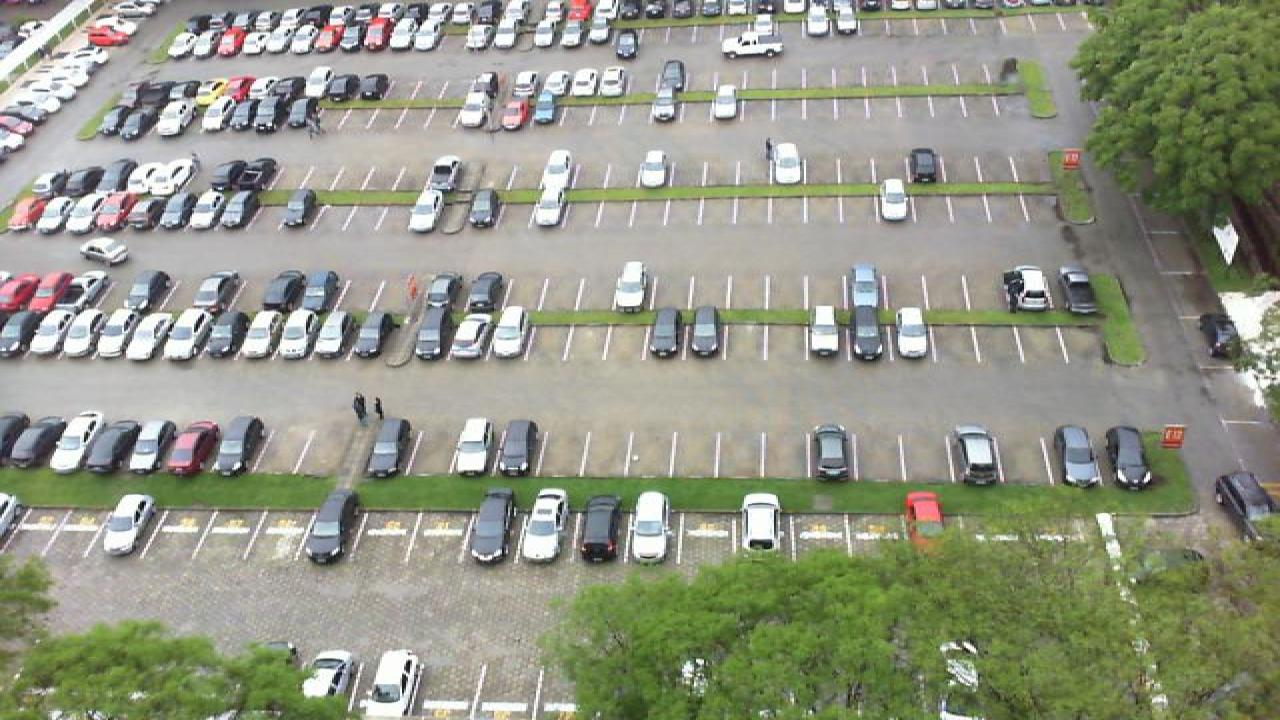Car: (1214, 468, 1280, 541), (368, 647, 426, 720), (464, 487, 518, 565), (516, 487, 568, 566), (306, 489, 358, 565), (300, 649, 352, 720), (574, 494, 624, 565), (628, 489, 674, 564), (46, 409, 102, 470), (1104, 424, 1156, 489), (98, 492, 152, 554), (736, 492, 786, 558), (214, 415, 266, 476), (364, 417, 412, 480), (166, 420, 220, 476), (902, 490, 950, 552), (82, 419, 138, 472), (954, 424, 1000, 486), (122, 420, 176, 472), (8, 414, 60, 468), (494, 418, 540, 478), (808, 424, 854, 483), (450, 417, 494, 477), (1058, 425, 1100, 487), (1002, 264, 1054, 313), (446, 308, 494, 361), (274, 308, 322, 361), (1056, 265, 1106, 315), (348, 308, 396, 360), (80, 307, 128, 359), (486, 307, 532, 361), (312, 307, 358, 361), (4, 308, 54, 357), (232, 309, 280, 360), (44, 307, 92, 358), (194, 307, 240, 360), (118, 307, 164, 360), (408, 304, 450, 361), (156, 308, 202, 360), (846, 305, 888, 361), (610, 261, 654, 314), (892, 306, 932, 361), (644, 306, 684, 360), (804, 306, 844, 359), (684, 306, 724, 359), (126, 268, 174, 312), (764, 138, 806, 184), (54, 191, 100, 233), (74, 270, 118, 313), (18, 192, 64, 233), (844, 264, 886, 308), (260, 270, 304, 312), (86, 192, 132, 232), (464, 271, 506, 314), (186, 269, 230, 310), (28, 272, 72, 313), (402, 189, 442, 234), (722, 31, 784, 60), (874, 178, 914, 222), (218, 189, 258, 231), (158, 156, 198, 197), (540, 148, 576, 192), (122, 192, 162, 231), (426, 271, 464, 312), (424, 154, 462, 195), (186, 190, 224, 231), (904, 147, 942, 187), (156, 191, 194, 231), (82, 236, 130, 267), (304, 272, 342, 310), (282, 189, 318, 229), (208, 158, 248, 194), (466, 189, 500, 231), (636, 150, 672, 189), (84, 17, 130, 47), (242, 156, 278, 194), (124, 161, 162, 197), (98, 159, 134, 197), (116, 101, 154, 137), (454, 98, 494, 132), (66, 162, 102, 198), (496, 94, 532, 130), (150, 101, 186, 136), (34, 168, 74, 199), (198, 98, 232, 134), (710, 83, 740, 123), (528, 92, 560, 128), (252, 98, 284, 133), (226, 98, 258, 133), (650, 88, 680, 125), (282, 96, 314, 130), (508, 68, 540, 102), (302, 68, 334, 102), (594, 67, 626, 99), (388, 22, 420, 54), (658, 58, 686, 94), (506, 20, 538, 51), (466, 22, 498, 53), (414, 22, 446, 53), (248, 28, 280, 59), (220, 29, 252, 60), (194, 30, 226, 61), (464, 71, 494, 103), (354, 72, 386, 102), (610, 28, 640, 60), (334, 25, 366, 55), (278, 27, 310, 57), (166, 33, 198, 63), (566, 69, 596, 100), (190, 79, 222, 108), (306, 27, 338, 56), (362, 24, 392, 54), (326, 74, 358, 102), (246, 74, 278, 102), (540, 70, 568, 101), (534, 19, 562, 50), (164, 78, 196, 105), (276, 73, 306, 101), (218, 78, 250, 104), (562, 19, 590, 48), (138, 78, 168, 105), (588, 18, 614, 48)
